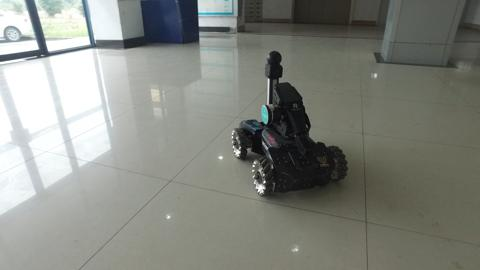chariot: (230, 50, 348, 197)
